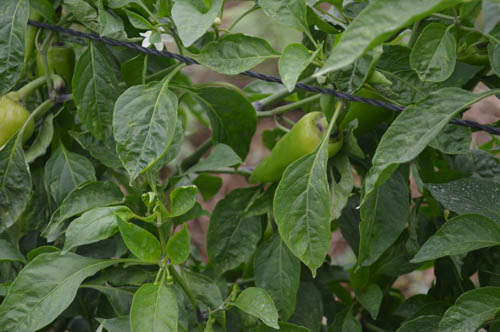ChiliPepper: (250, 110, 346, 193), (1, 91, 35, 149)
